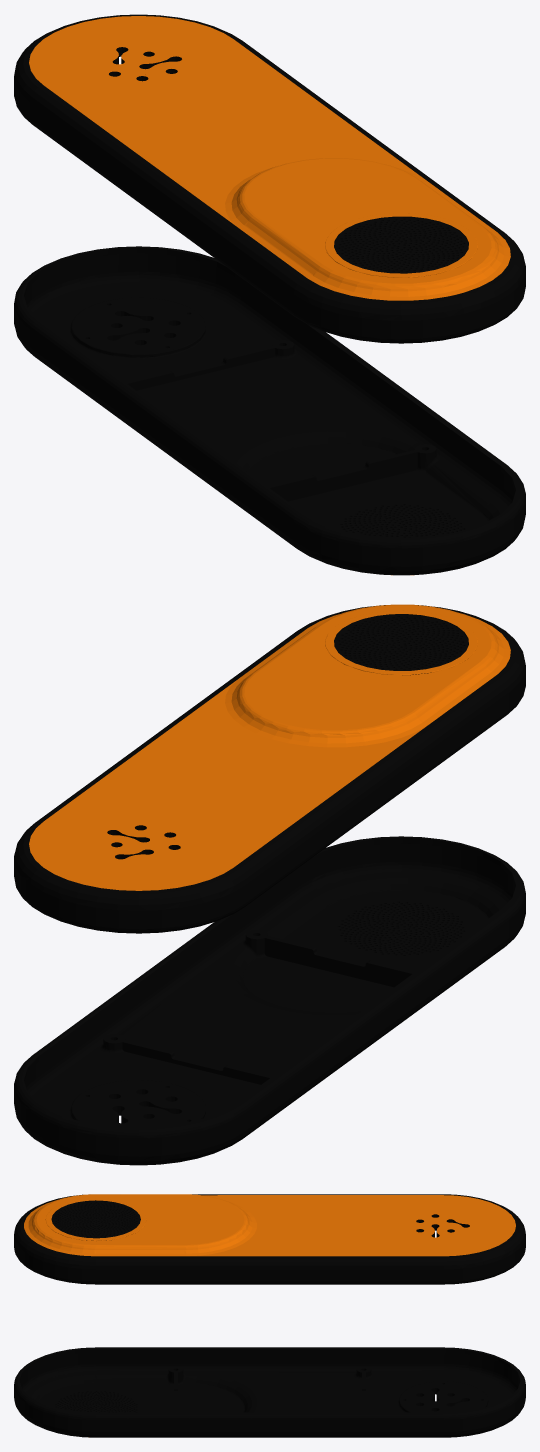
3 renders of one model, top to bottom at view 1: azimuth 30°, elevation 25°; view 2: azimuth 150°, elevation 25°; view 3: azimuth 270°, elevation 25°, orthographic. The views are drawn at different scales.
Visible parts, largest first — view 1: Link3; view 2: Link3; view 3: Link3.
Boxes of the visible parts, x1=… form: Link3: x1=14, y1=14, x2=525, y2=575; Link3: x1=14, y1=604, x2=525, y2=1165; Link3: x1=14, y1=1194, x2=525, y2=1437.
Bounding box in the file's own units: 0.1663 × 0.2153 × 0.5171.
